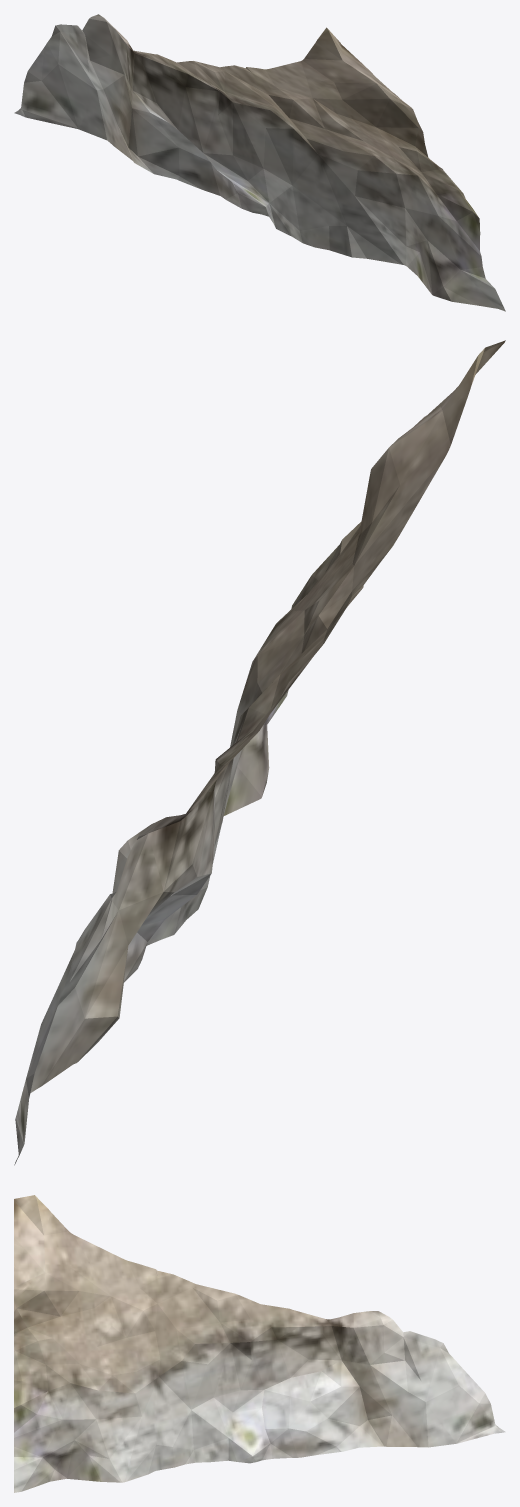
The picture shows the model from 3 angles, top to bottom: view 1: azimuth 30°, elevation 25°; view 2: azimuth 150°, elevation 25°; view 3: azimuth 270°, elevation 25°; orthographic projection. The views are drawn at different scales.
Size of the model in its own units: 0.716 by 1.3 by 2.45.
1 material, 1 textured.
